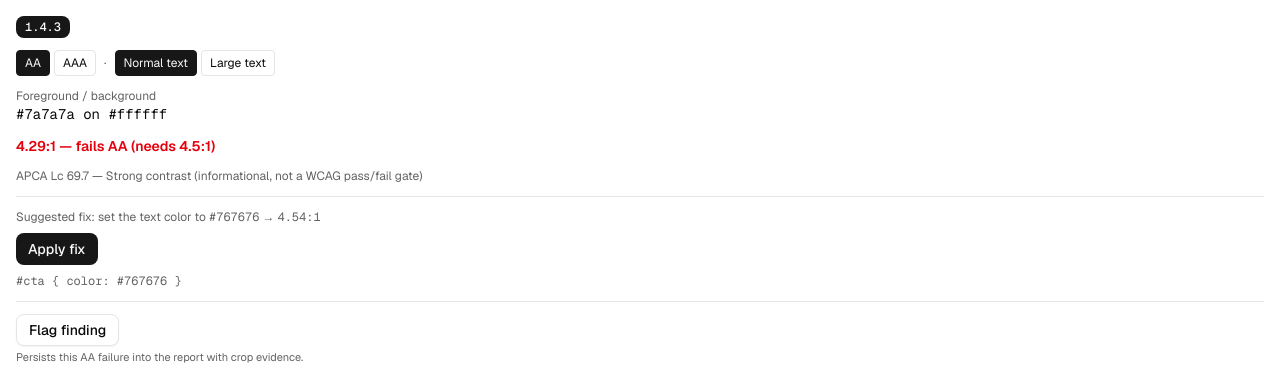
ContrastFix › regression: the criterion chip reflects the actual selected target (1.4.6 at AAA, not a static 1.4.3/1.4.11 pair)
The width and height of the screenshot is (1280, 380).
Expected: the text "1.4.3" is shown, [16,16,70,38]
Click the button with test id "target-level-aaa" at (75, 63), box [54,50,96,76]
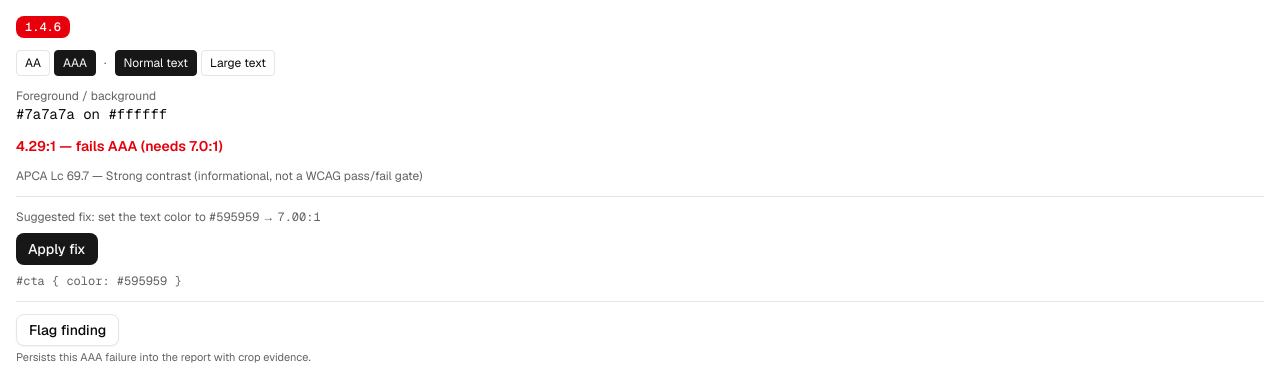
Expected: the text "1.4.6" is shown, [16,16,70,38]
Expected: the link "1.4.3" is gone
